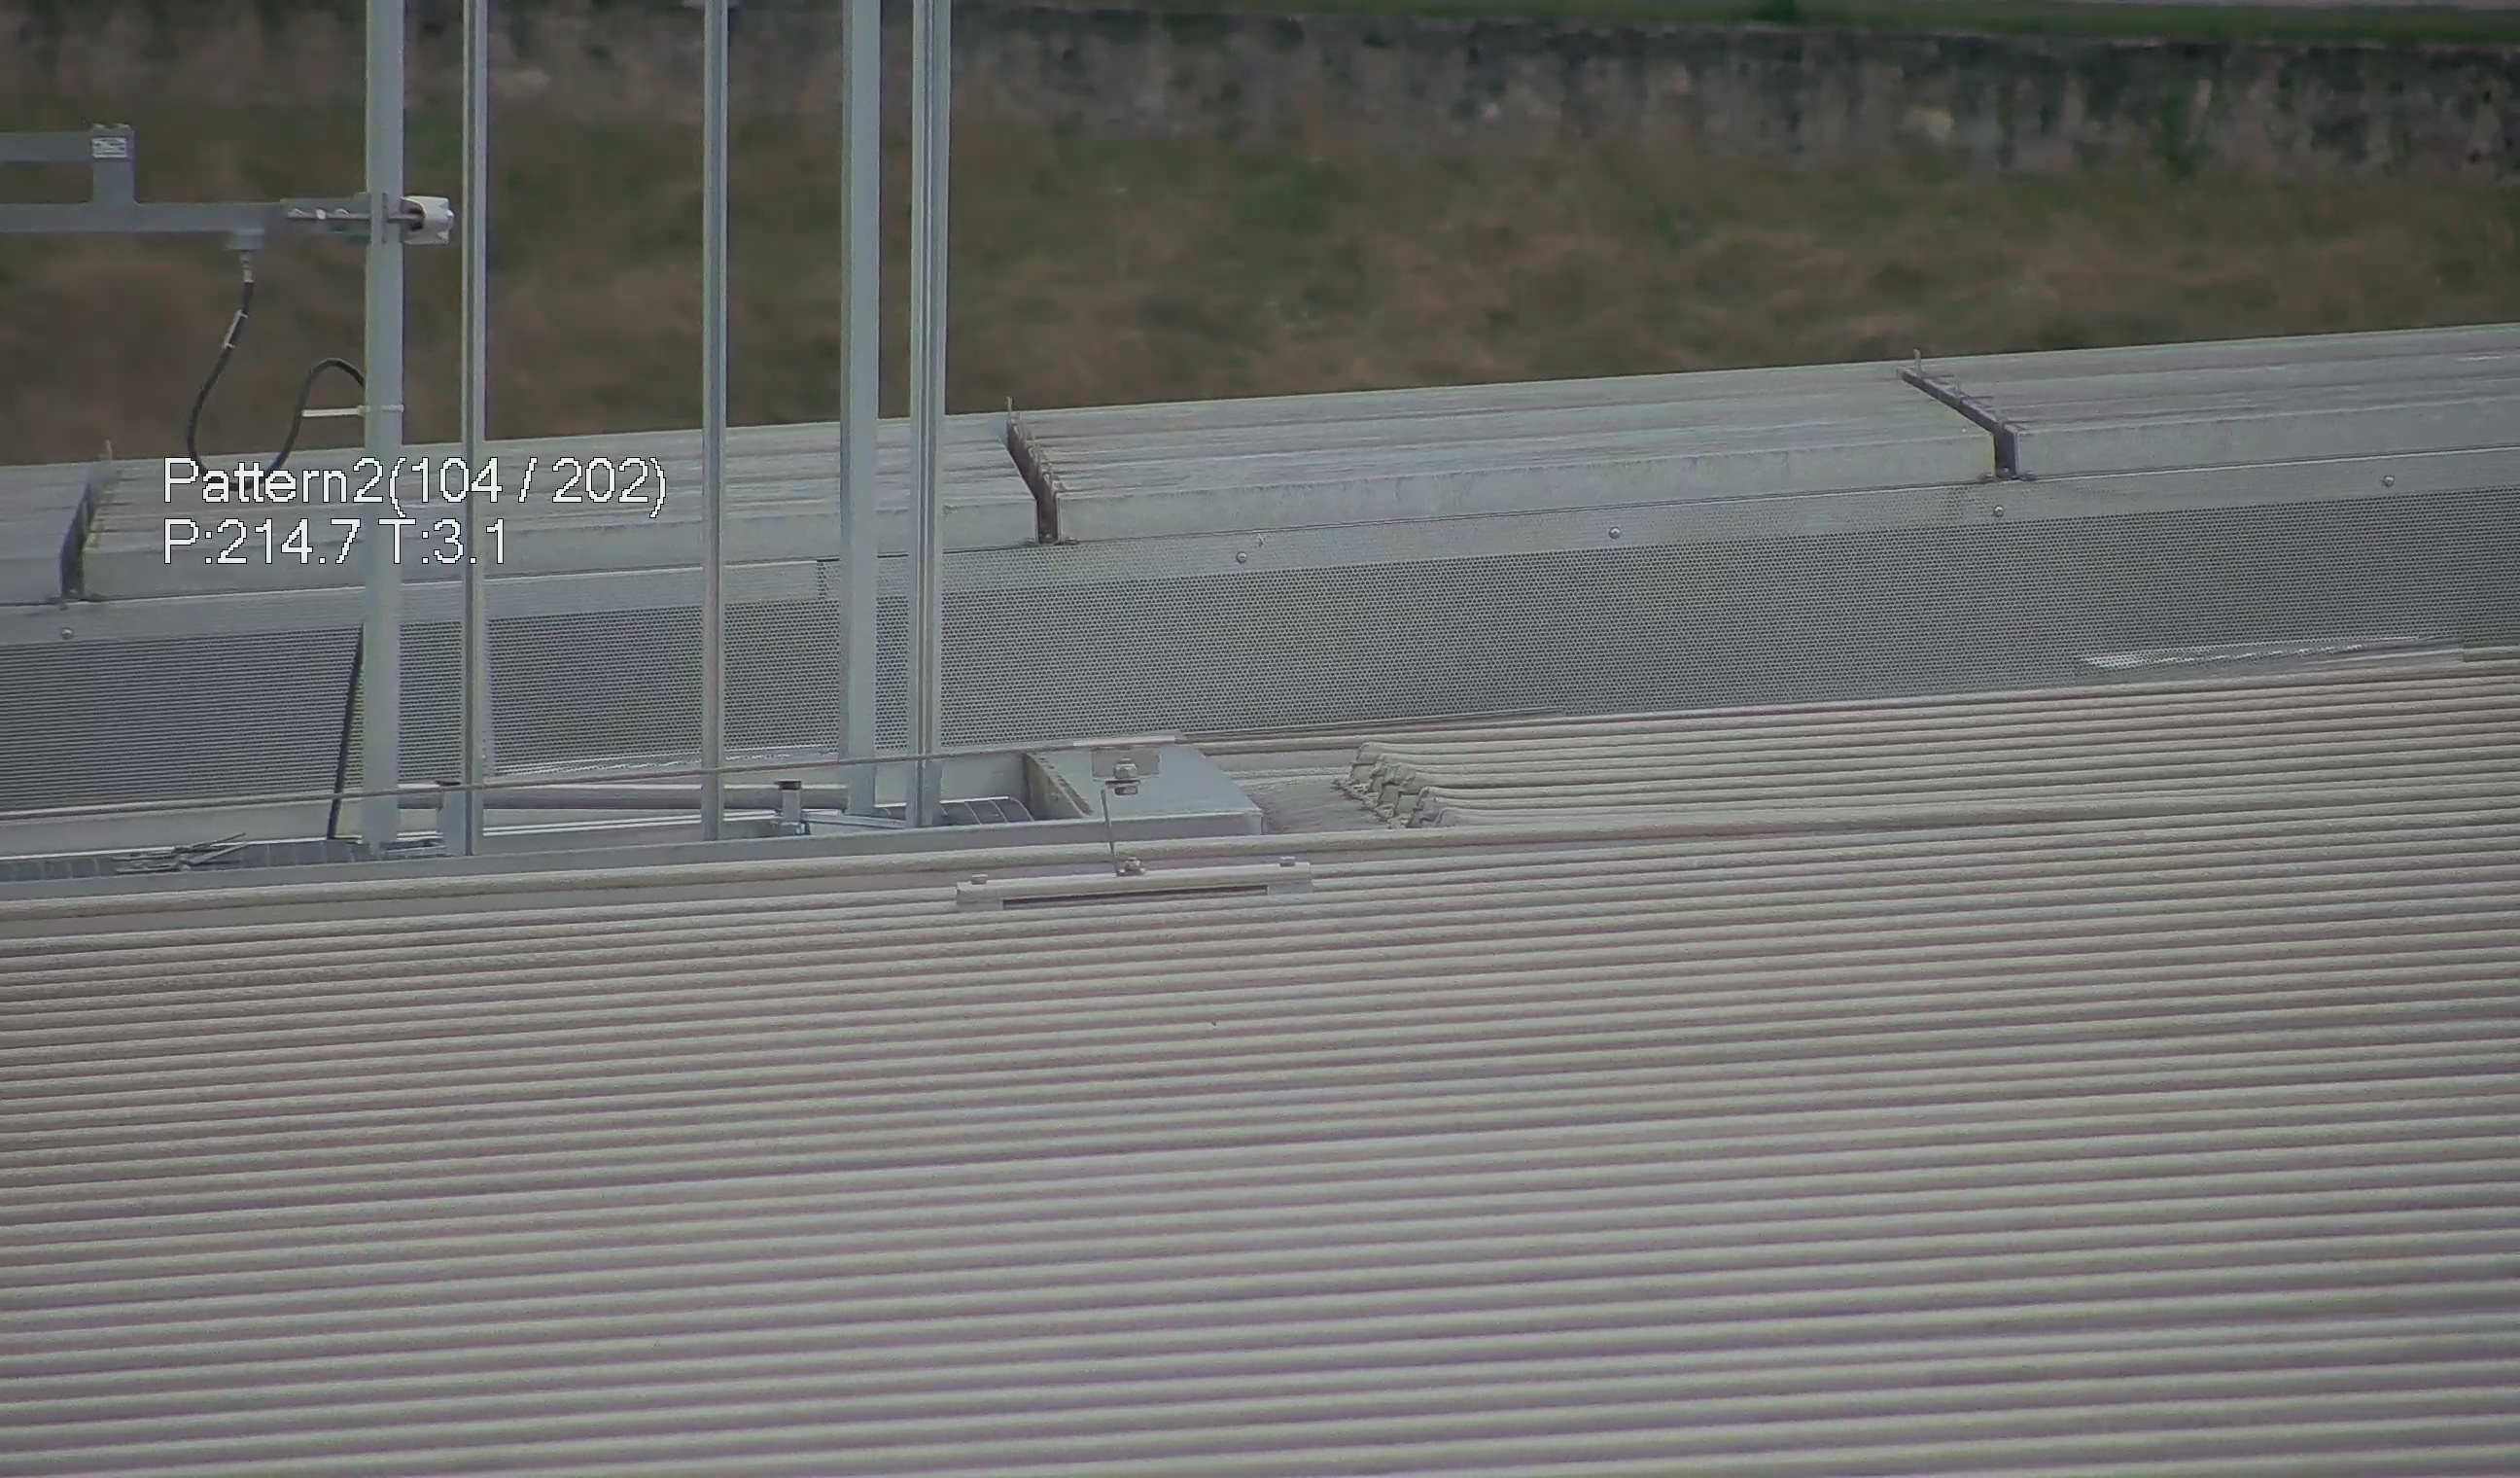Other: (981, 384, 1074, 547)
